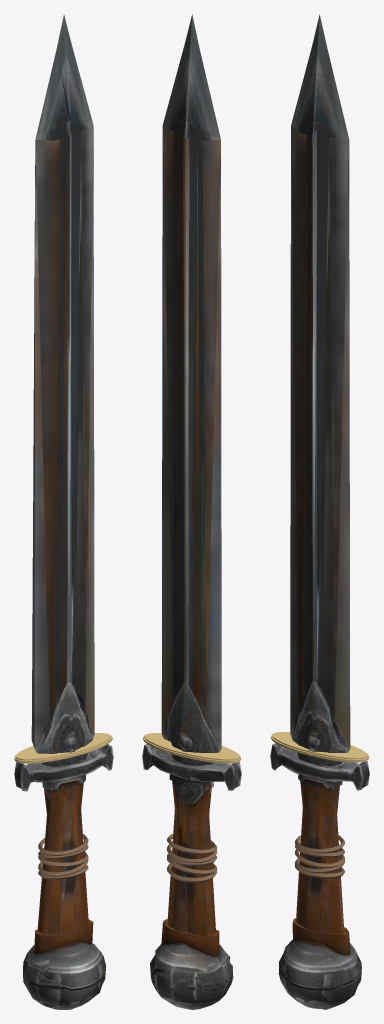
The model's file is weap_roman_spatha_1.glb.
3 views of the same model, side by side, from view 1: azimuth 30°, elevation 25°; view 2: azimuth 150°, elevation 25°; view 3: azimuth 330°, elevation 25° (orthographic).
Visible parts, largest first — view 1: MeshyGear_weap_roman_spatha, Q_LE0_RepairThong, Q_GE3_GuardPlate; view 2: MeshyGear_weap_roman_spatha, Q_LE0_RepairThong, Q_GE3_GuardPlate; view 3: MeshyGear_weap_roman_spatha, Q_LE0_RepairThong, Q_GE3_GuardPlate.
Boxes of the visible parts, x1,y1,x2,y2 form: MeshyGear_weap_roman_spatha: [14, 14, 113, 1009]; Q_LE0_RepairThong: [38, 834, 88, 879]; Q_GE3_GuardPlate: [14, 733, 112, 763]; MeshyGear_weap_roman_spatha: [142, 14, 241, 1009]; Q_LE0_RepairThong: [167, 834, 217, 882]; Q_GE3_GuardPlate: [143, 733, 240, 763]; MeshyGear_weap_roman_spatha: [270, 14, 369, 1009]; Q_LE0_RepairThong: [295, 835, 344, 878]; Q_GE3_GuardPlate: [271, 732, 368, 762].
Bounding box in the file's own units: 0.0914 × 0.9 × 0.0639.
Materials: 3 (1 with a texture image).
